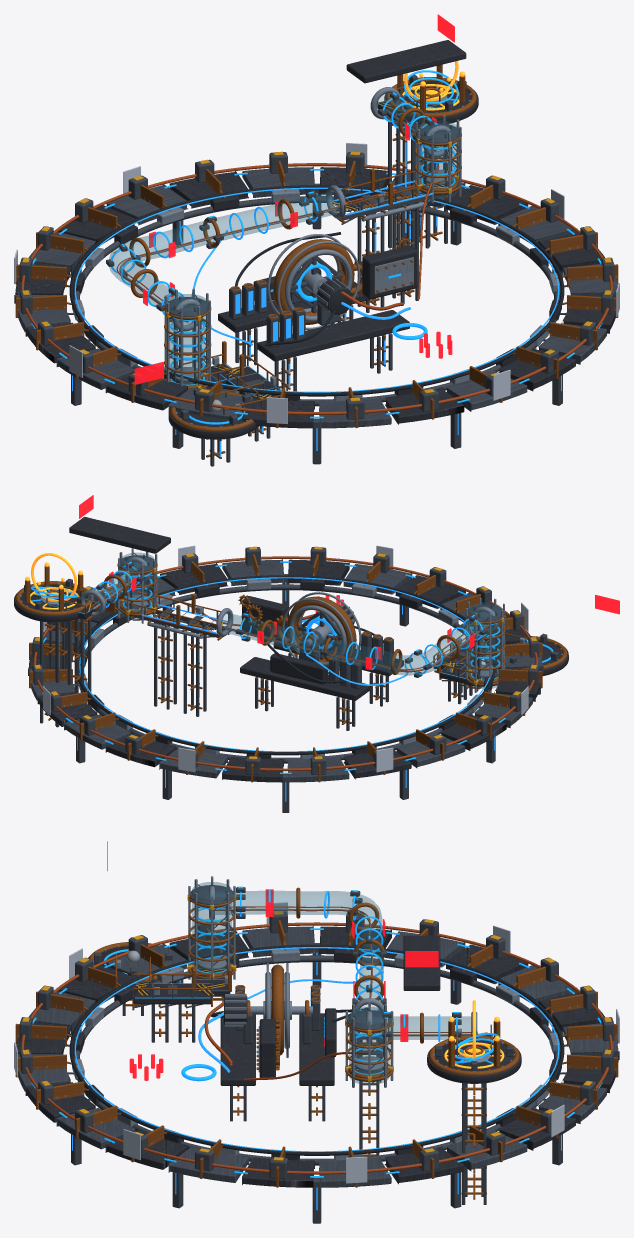
Rendered from level06_orbital_mechanism_v2_high.glb.
The picture shows the model from 3 angles, top to bottom: view 1: azimuth 30°, elevation 25°; view 2: azimuth 150°, elevation 25°; view 3: azimuth 270°, elevation 25°; orthographic projection. The views are drawn at different scales.
Visible parts, largest first — view 1: T01_GlassShell, R01_InnerCableRaceway, R01_OuterServiceConduit, M01_ServiceDeck_South, R01_InnerStructuralBelt, B04_Movable, L01_SafetyGlass, R01_InnerEnergyBus, L02_SafetyGlass, M01_Rotor_Rim, M01_GearboxHousing, R01_Segment_16 (+33 smaller); view 2: T01_GlassShell, R01_InnerCableRaceway, R01_OuterServiceConduit, R01_InnerStructuralBelt, B04_Movable, M01_ServiceDeck_North, L01_SafetyGlass, R01_InnerEnergyBus, M01_ControlManifold, R01_Segment_08, R01_Segment_07, R01_Segment_19 (+25 smaller); view 3: T01_GlassShell, R01_InnerCableRaceway, R01_OuterServiceConduit, R01_InnerStructuralBelt, L01_SafetyGlass, M01_ServiceDeck_South, R01_InnerEnergyBus, M01_ServiceDeck_North, L02_SafetyGlass, B04_Movable, P02_Deck, T02_GlassShell (+41 smaller).
Boxes of the visible parts, left/top/right/bottom form: T01_GlassShell: left=109, top=191, right=339, bottom=324; R01_InnerCableRaceway: left=69, top=185, right=564, bottom=396; R01_OuterServiceConduit: left=21, top=163, right=612, bottom=414; M01_ServiceDeck_South: left=257, top=310, right=409, bottom=361; R01_InnerStructuralBelt: left=73, top=196, right=560, bottom=406; B04_Movable: left=346, top=40, right=466, bottom=83; L01_SafetyGlass: left=168, top=294, right=207, bottom=386; R01_InnerEnergyBus: left=74, top=187, right=559, bottom=392; L02_SafetyGlass: left=418, top=120, right=458, bottom=197; M01_Rotor_Rim: left=273, top=239, right=354, bottom=324; M01_GearboxHousing: left=362, top=245, right=417, bottom=299; R01_Segment_16: left=319, top=397, right=391, bottom=429; T01_GlassShell: left=222, top=612, right=492, bottom=675; R01_InnerCableRaceway: left=78, top=575, right=495, bottom=755; R01_OuterServiceConduit: left=33, top=556, right=538, bottom=771; R01_InnerStructuralBelt: left=78, top=584, right=489, bottom=763; B04_Movable: left=69, top=517, right=170, bottom=553; M01_ServiceDeck_North: left=240, top=657, right=370, bottom=700; L01_SafetyGlass: left=468, top=602, right=502, bottom=688; R01_InnerEnergyBus: left=79, top=577, right=492, bottom=751; M01_ControlManifold: left=270, top=653, right=328, bottom=684; R01_Segment_08: left=287, top=756, right=349, bottom=783; R01_Segment_07: left=222, top=756, right=283, bottom=782; R01_Segment_19: left=287, top=559, right=349, bottom=585; T01_GlassShell: left=215, top=891, right=383, bottom=1007; R01_InnerCableRaceway: left=69, top=944, right=564, bottom=1155; R01_OuterServiceConduit: left=21, top=922, right=612, bottom=1174; R01_InnerStructuralBelt: left=73, top=955, right=560, bottom=1165; L01_SafetyGlass: left=192, top=882, right=231, bottom=974; M01_ServiceDeck_South: left=220, top=1014, right=255, bottom=1085; R01_InnerEnergyBus: left=74, top=947, right=559, bottom=1151; M01_ServiceDeck_North: left=299, top=1013, right=334, bottom=1085; L02_SafetyGlass: left=349, top=1007, right=389, bottom=1084; B04_Movable: left=403, top=935, right=440, bottom=990; P02_Deck: left=427, top=1041, right=521, bottom=1082; T02_GlassShell: left=372, top=1016, right=470, bottom=1039.
Bounding box in the file's own units: 48.38 × 20.48 × 46.21.
14 materials, 4 textured.
